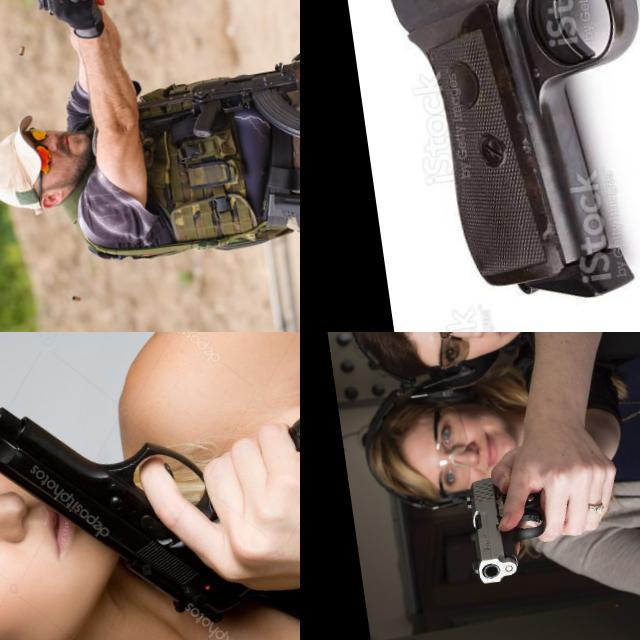handgun: (347, 0, 640, 327), (0, 367, 265, 640), (456, 468, 556, 587), (26, 0, 73, 41)
